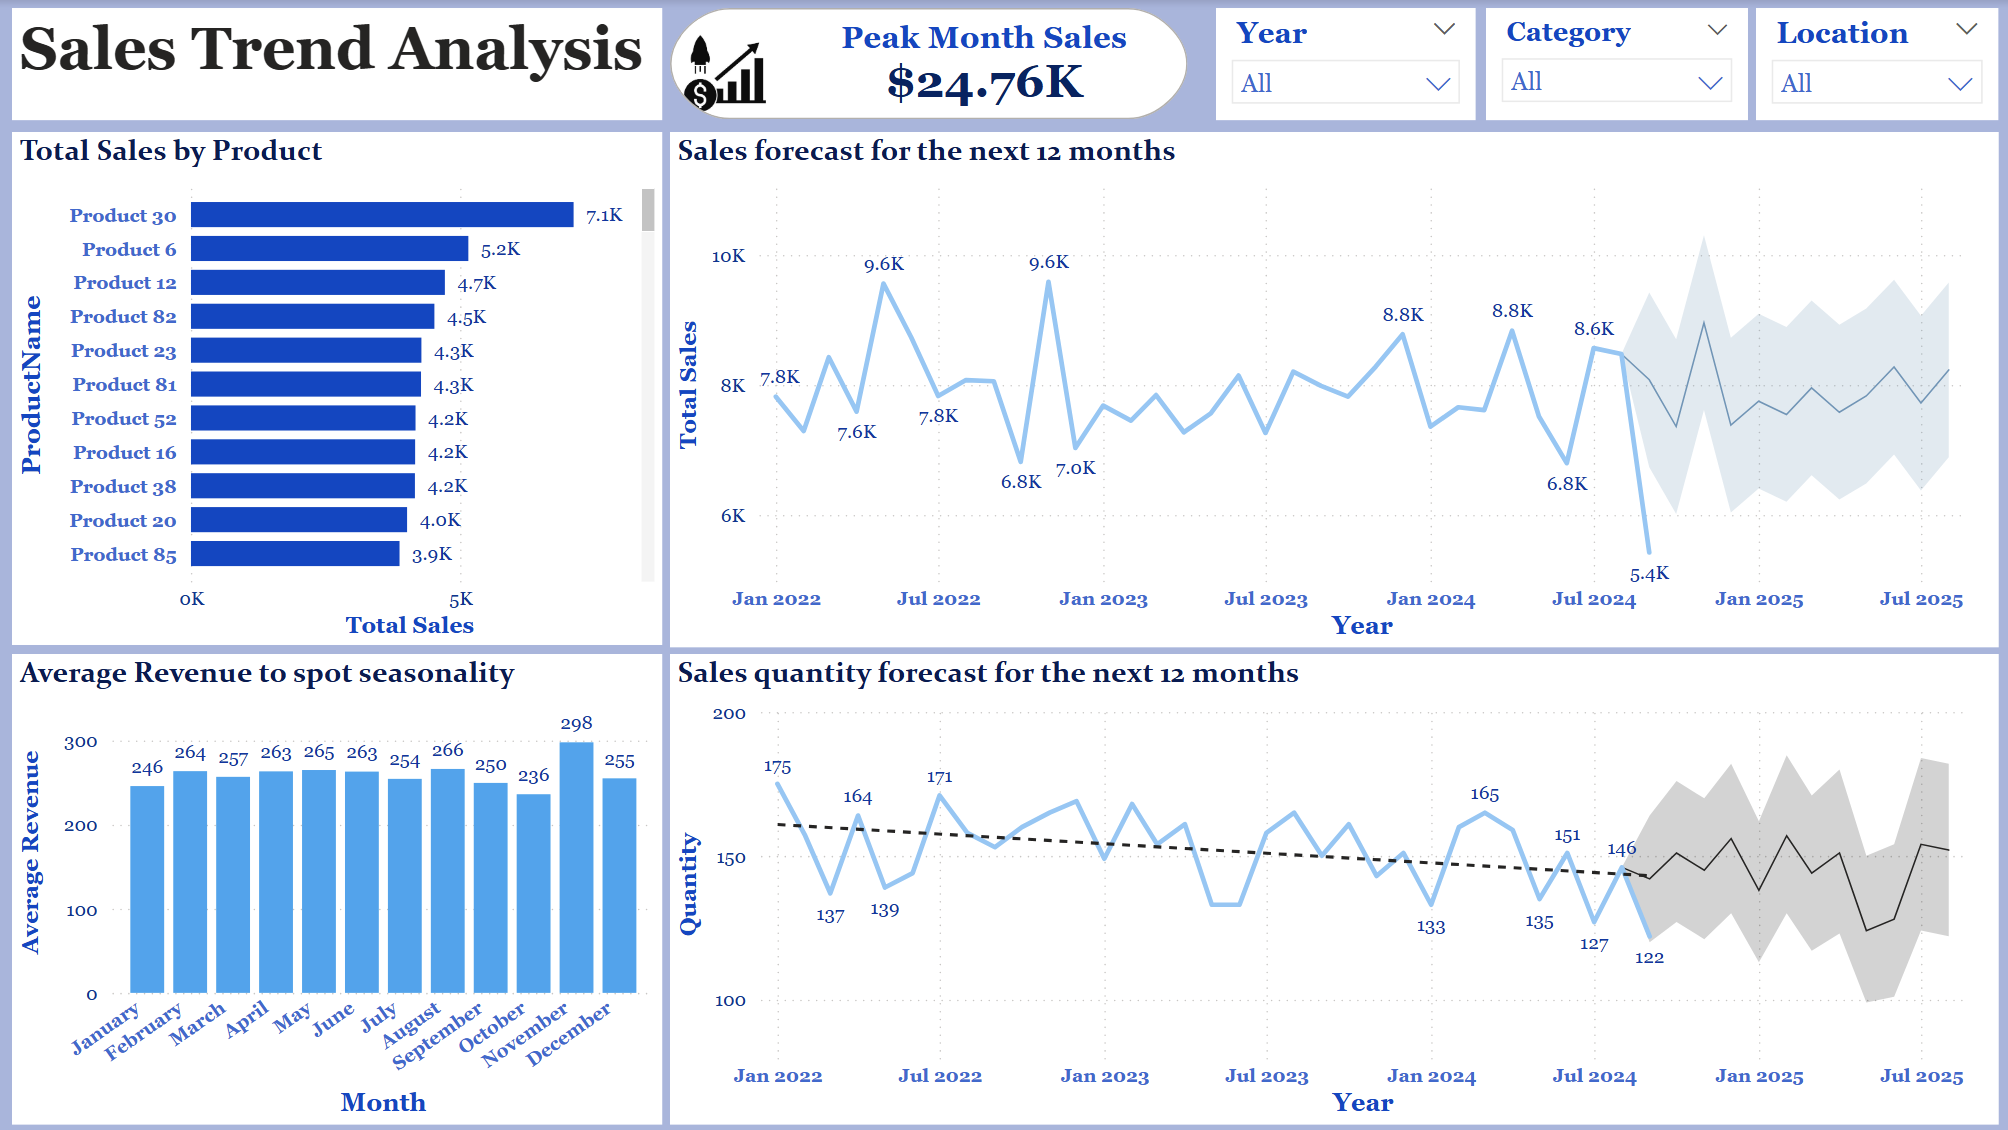

Layout of this report page (visuals, bound fields, positions):
{"tool":"powerbi","page":{"name":"Sales Trend Forecast","canvas":[1280,720],"ordinal":0},"visuals":[{"type":"slicer","fields":{"Values":["Date.Year"]},"box":[775.7,5.7,165.7,71.4],"z":0},{"type":"cardVisual","fields":{"Data":["Sales.Peak Month Sales"]},"box":[427.1,5.7,330,71.4],"z":1000},{"type":"textbox","box":[7.1,5.7,414.3,71.4],"z":2000},{"type":"clusteredColumnChart","title":"Average Revenue  to spot seasonality","fields":{"Category":["Date.Month Name"],"Y":["Avg(Sales.Revenue)"]},"box":[7.1,417.1,414.3,300],"z":3000},{"type":"slicer","fields":{"Values":["Products.Category"]},"box":[947.1,5.7,167.1,71.4],"z":4000},{"type":"slicer","fields":{"Values":["Customers.Location"]},"box":[1120,5.3,154.3,71.4],"z":5000},{"type":"lineChart","title":"Sales forecast for the next 12 months","fields":{"Y":["Sales.Total Sales"],"Category":["Sales.Sale Date.Variation.Date Hierarchy.Year","Sales.Sale Date.Variation.Date Hierarchy.Quarter","Sales.Sale Date.Variation.Date Hierarchy.Month"]},"box":[427.1,84.3,847.1,328.6],"z":6000},{"type":"lineChart","title":"Sales quantity forecast for the next 12 months","fields":{"Category":["Sales.Sale Date.Variation.Date Hierarchy.Year","Sales.Sale Date.Variation.Date Hierarchy.Quarter","Sales.Sale Date.Variation.Date Hierarchy.Month"],"Y":["Sum(Sales.Quantity)"]},"box":[427.1,417.1,847.1,300],"z":7000},{"type":"clusteredBarChart","title":"Total Sales by Product","fields":{"Category":["Products.ProductName"],"Y":["Sales.Total Sales"]},"box":[7.1,84.3,414.3,327.1],"z":8000}]}

Visuals, with their boxes in screenshot pixels (x1, y1, x2, y2), scaled from the page's 1280x720 canvas onto the 2008x1130 screenshot:
slicer - Date.Year: box(1217, 9, 1477, 121)
cardVisual - Sales.Peak Month Sales: box(670, 9, 1188, 121)
textbox: box(11, 9, 661, 121)
"Average Revenue  to spot seasonality" clusteredColumnChart: box(11, 655, 661, 1125)
slicer - Products.Category: box(1486, 9, 1748, 121)
slicer - Customers.Location: box(1757, 8, 1999, 120)
"Sales forecast for the next 12 months" lineChart: box(670, 132, 1999, 648)
"Sales quantity forecast for the next 12 months" lineChart: box(670, 655, 1999, 1125)
"Total Sales by Product" clusteredBarChart: box(11, 132, 661, 646)
